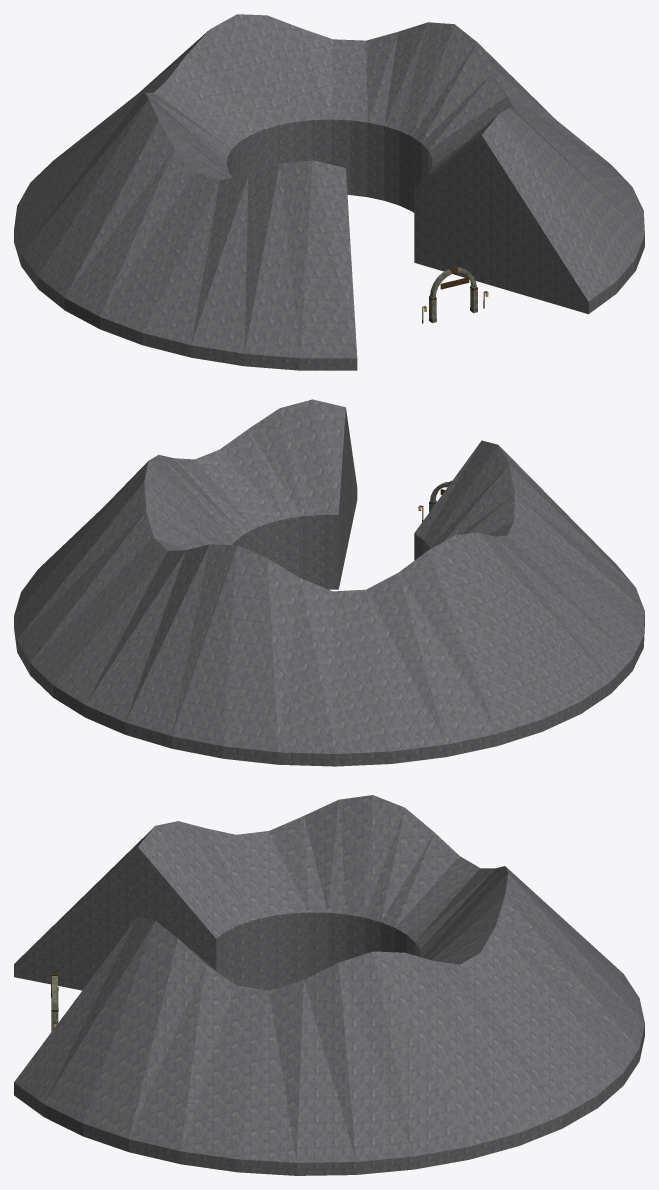
The model's file is MossbellApproach.fbx.
The picture shows the model from 3 angles, top to bottom: view 1: azimuth 30°, elevation 25°; view 2: azimuth 150°, elevation 25°; view 3: azimuth 270°, elevation 25°; orthographic projection. The views are drawn at different scales.
Visible parts, largest first — view 1: Escarpment, Set; view 2: Escarpment; view 3: Escarpment.
Boxes of the visible parts, x1,y1,x2,y2 form: Escarpment: [14, 14, 644, 370]; Set: [422, 266, 488, 323]; Escarpment: [14, 399, 644, 766]; Escarpment: [14, 795, 644, 1175].
Bounding box in the file's own units: 9187 × 2500 × 8769.
